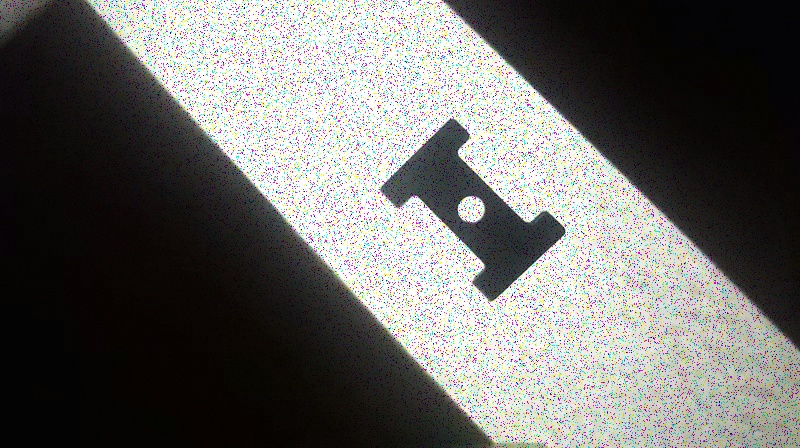O002: (378, 115, 569, 304)
